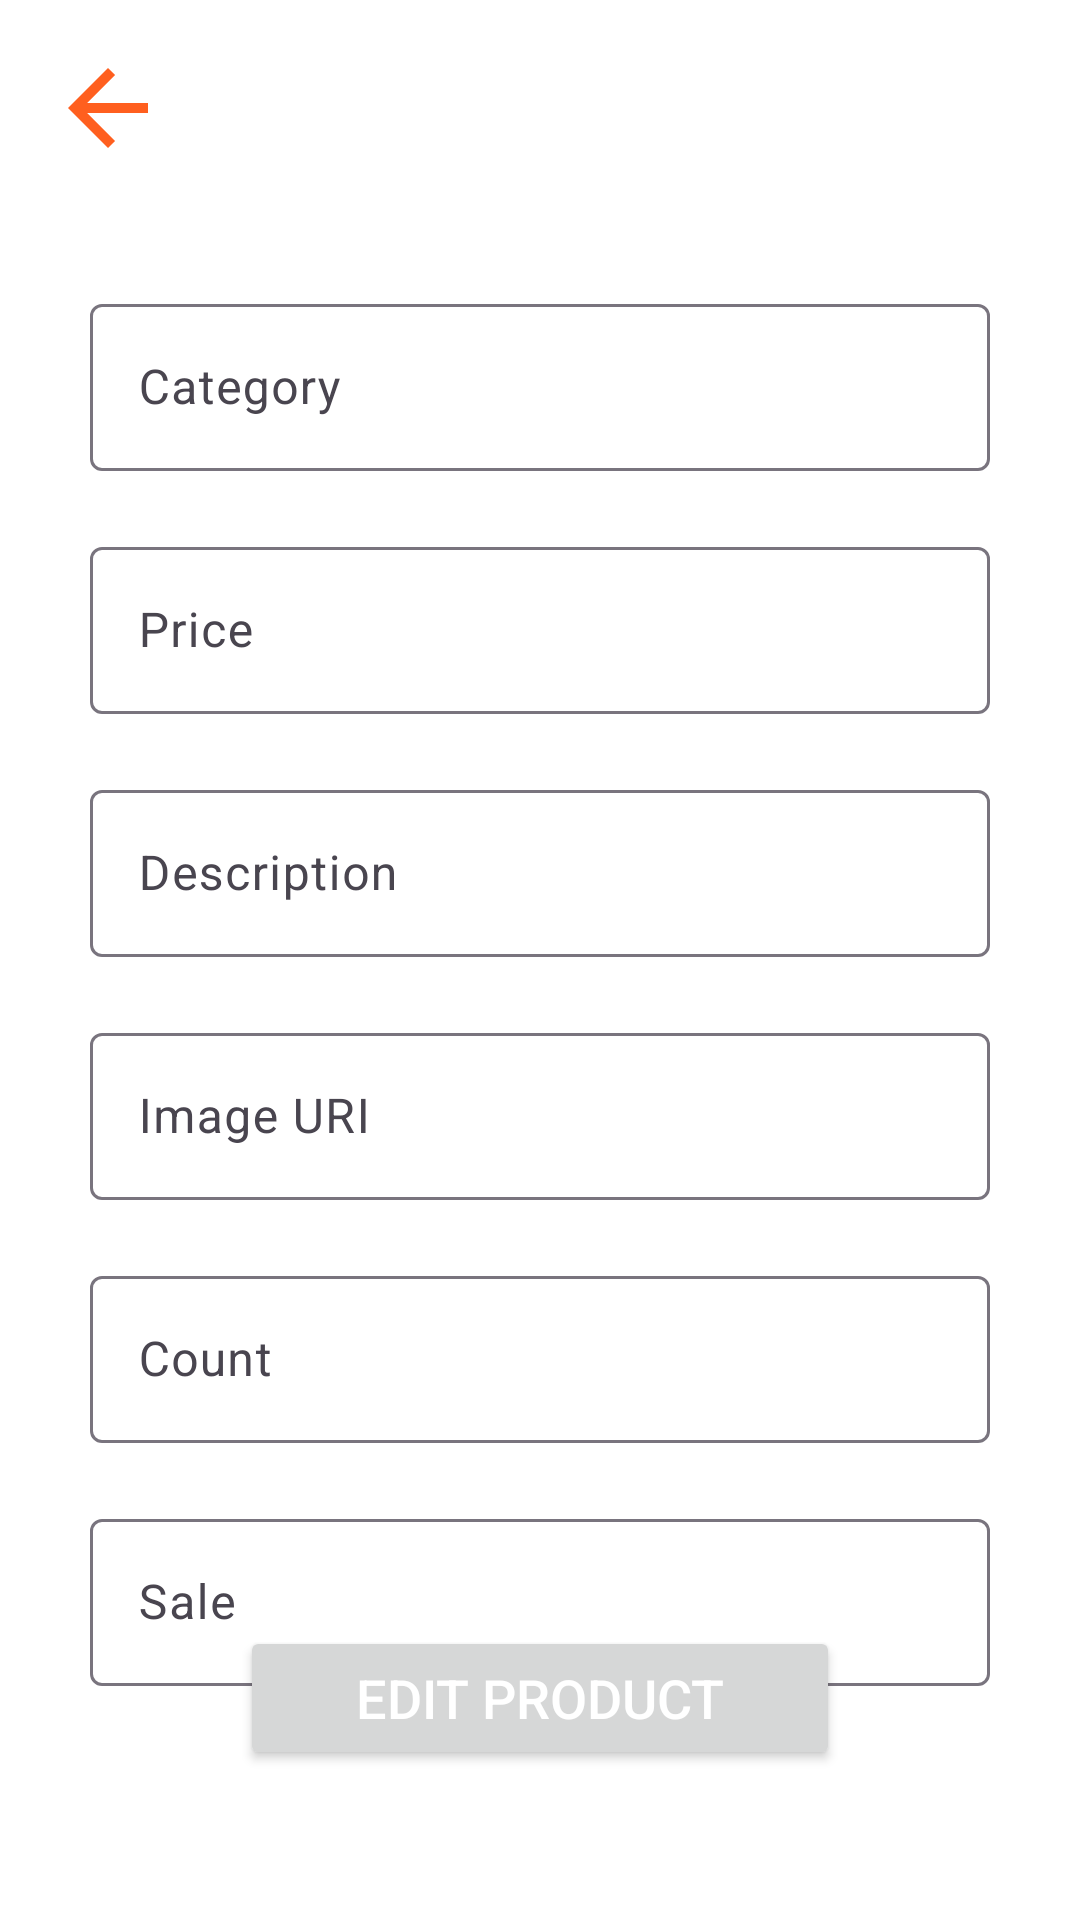

Point at icon controls on the screen. Image size 1080×1920, points as [x,y].
arrow back: [108,108]
